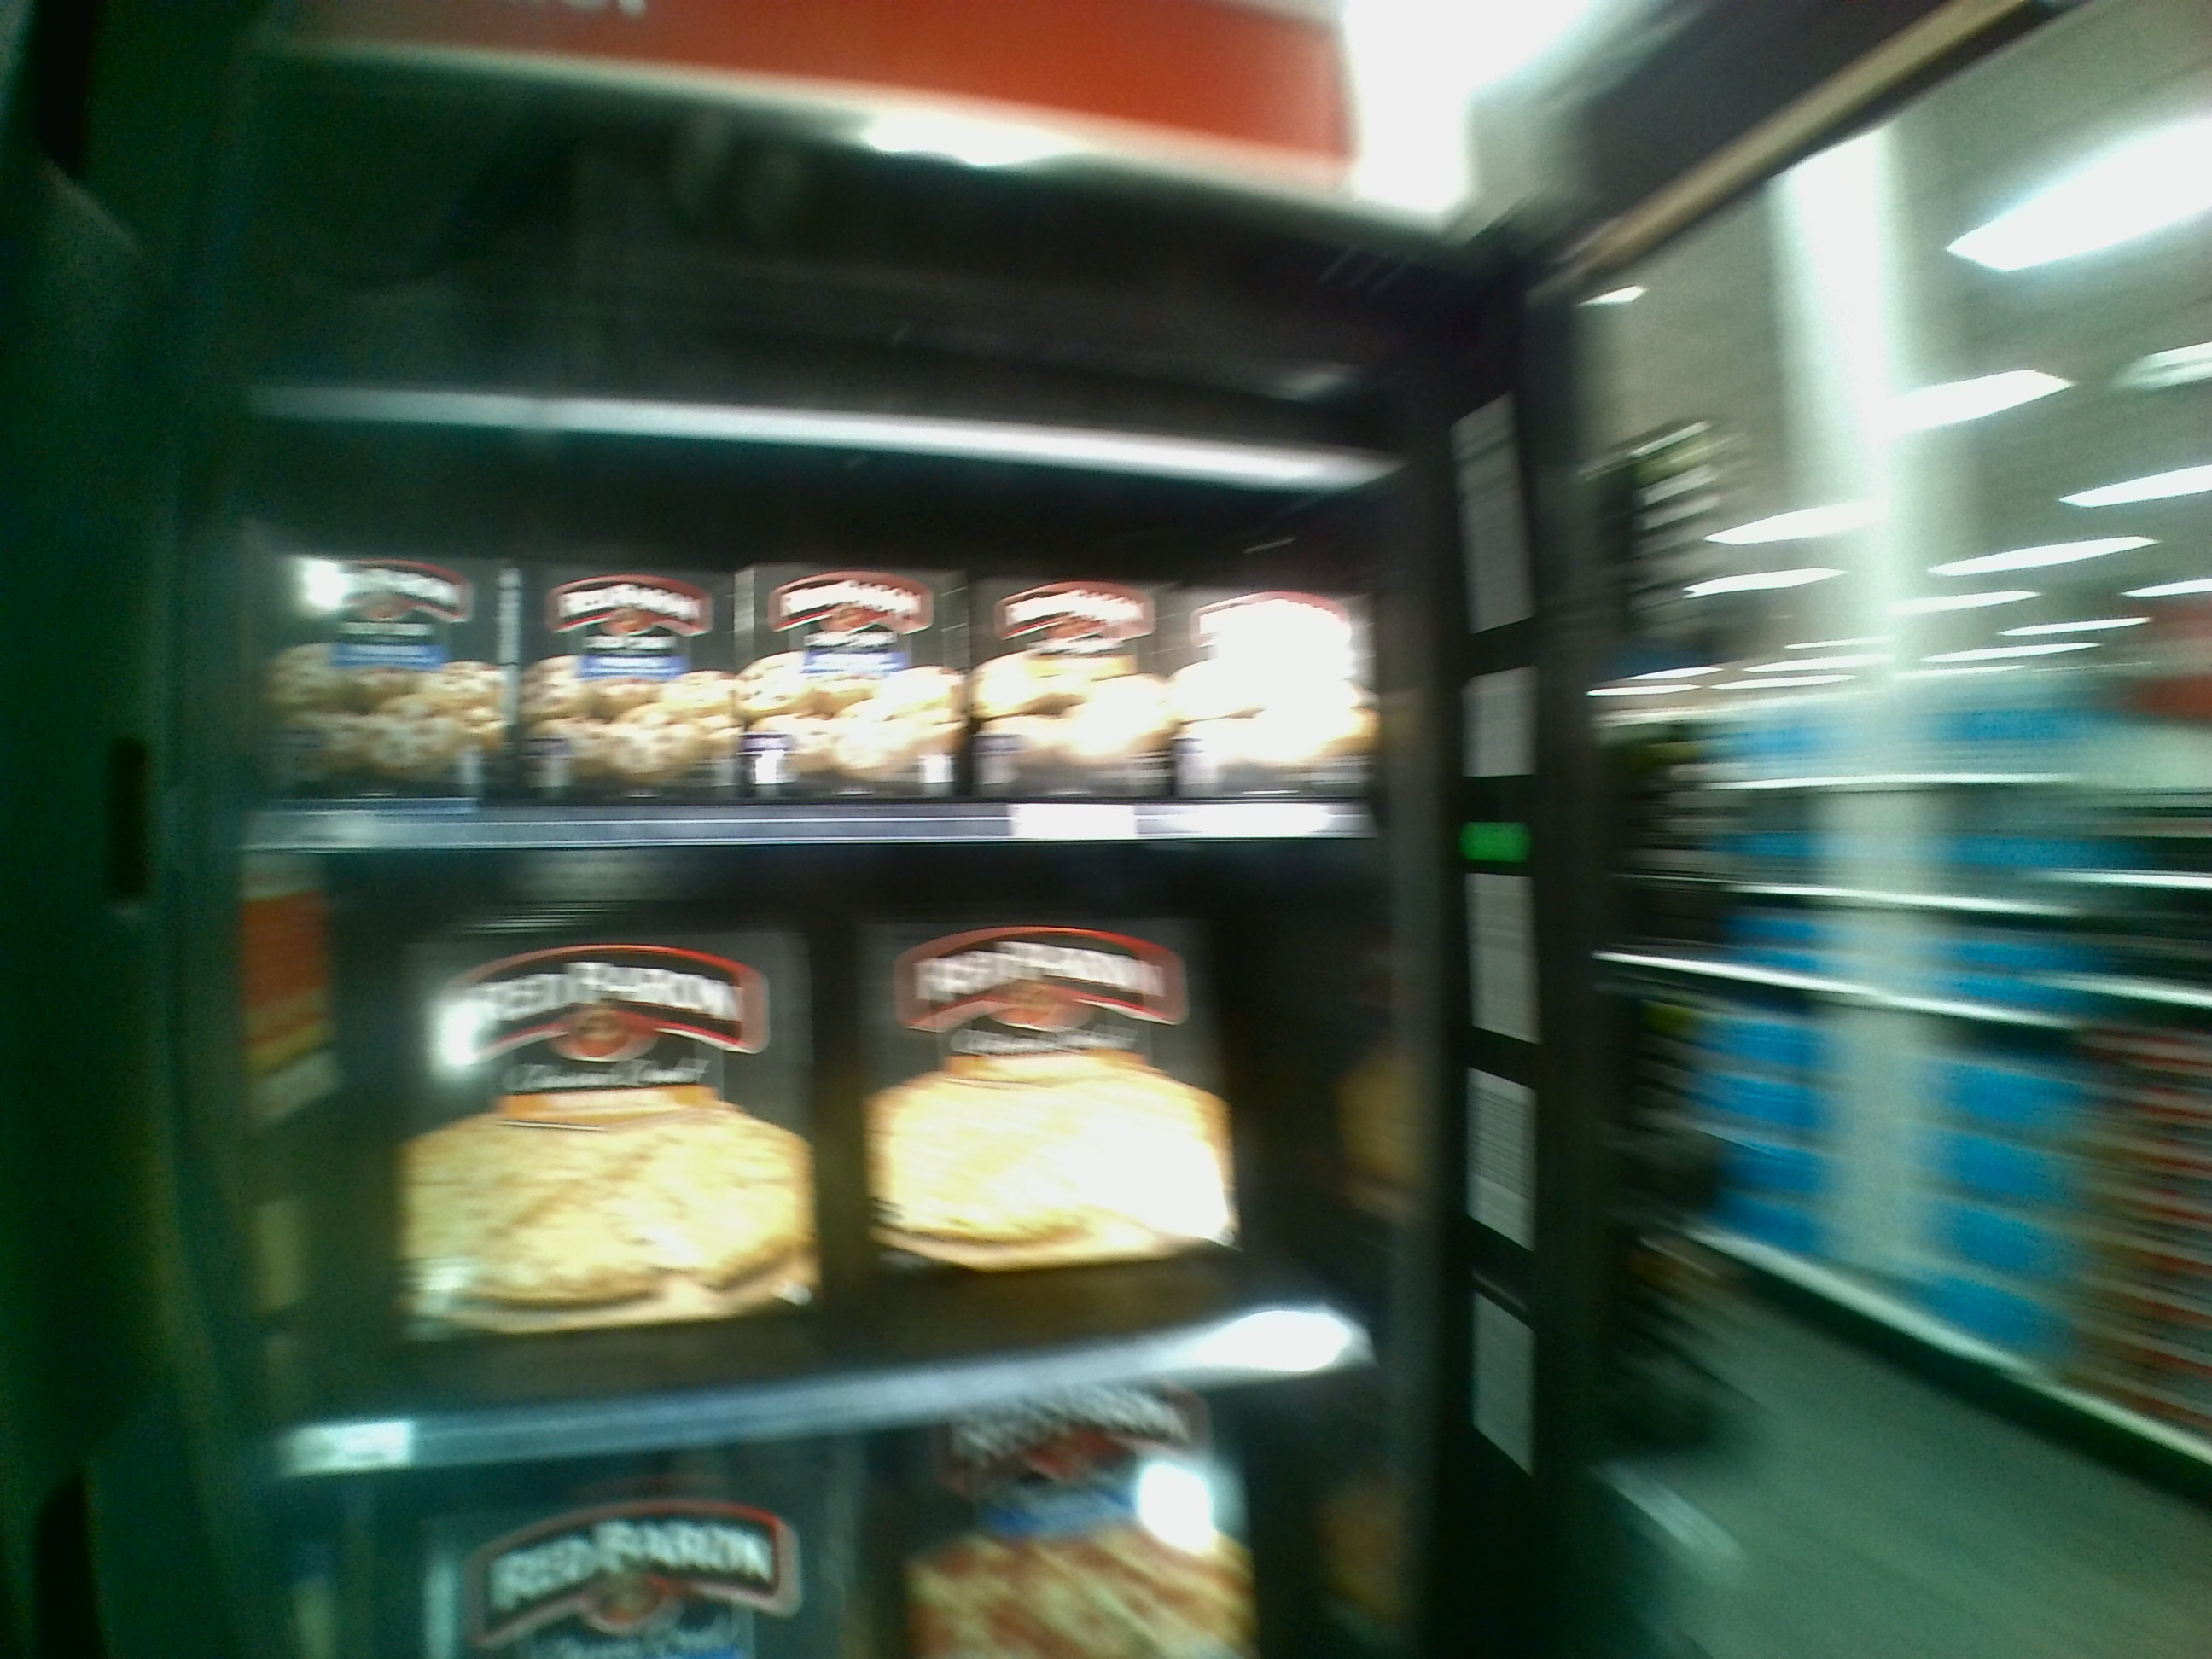shelf: (256, 849, 1400, 1425), (233, 425, 1390, 847)
